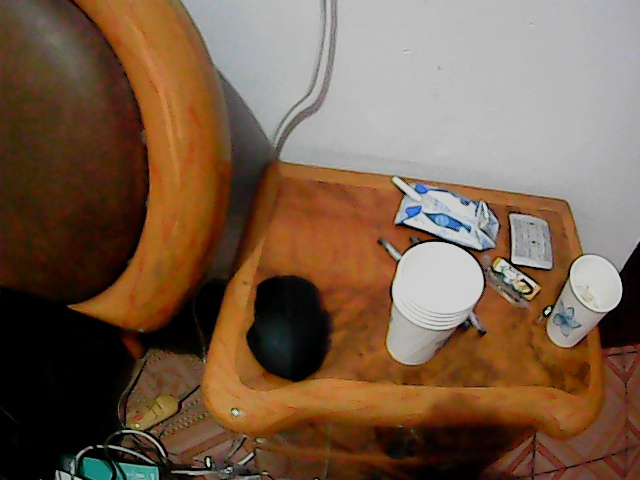cup: (384, 237, 485, 369)
mouse: (244, 272, 336, 384)
